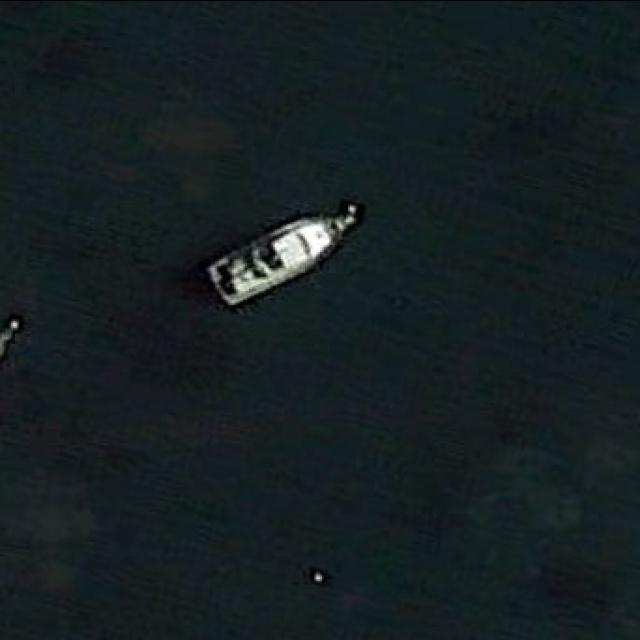ship: (202, 212, 358, 308)
